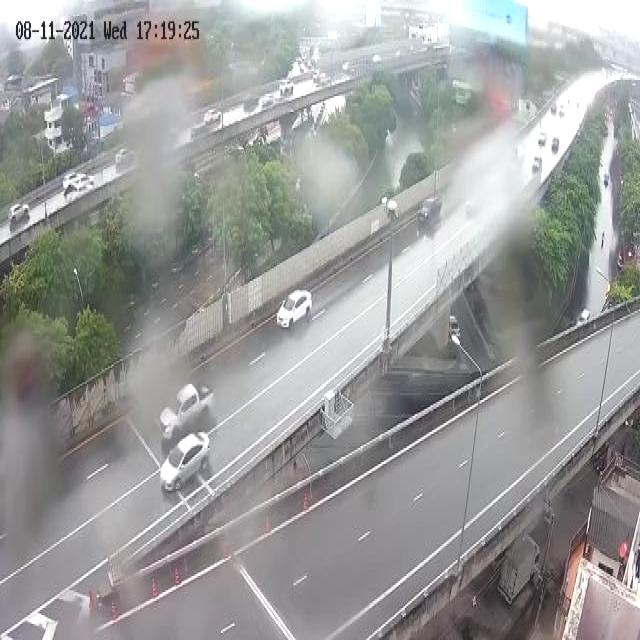Car: (159, 431, 210, 492), (277, 288, 312, 331), (416, 196, 442, 226), (7, 203, 29, 224), (114, 148, 135, 166), (448, 314, 460, 340), (203, 108, 220, 125), (280, 78, 295, 95), (63, 170, 77, 188), (78, 172, 94, 187), (532, 154, 543, 173), (537, 130, 548, 146), (551, 136, 560, 150)
Truck: (496, 532, 542, 606), (160, 378, 213, 441)
